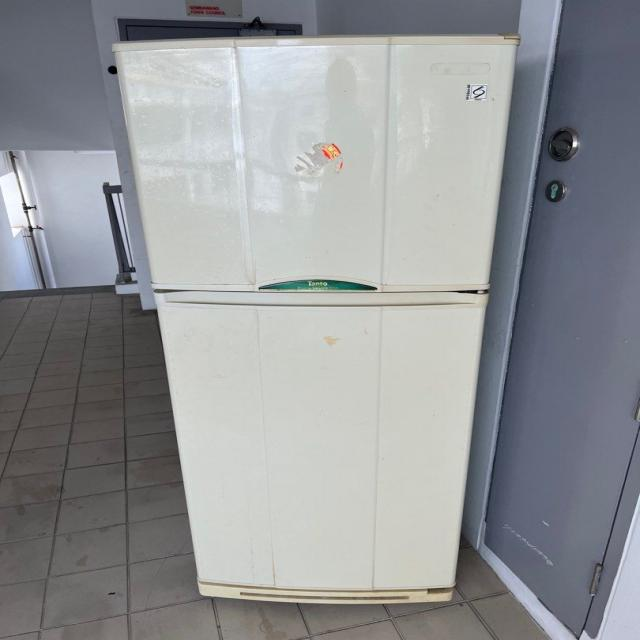refrigerator: (114, 35, 522, 606)
